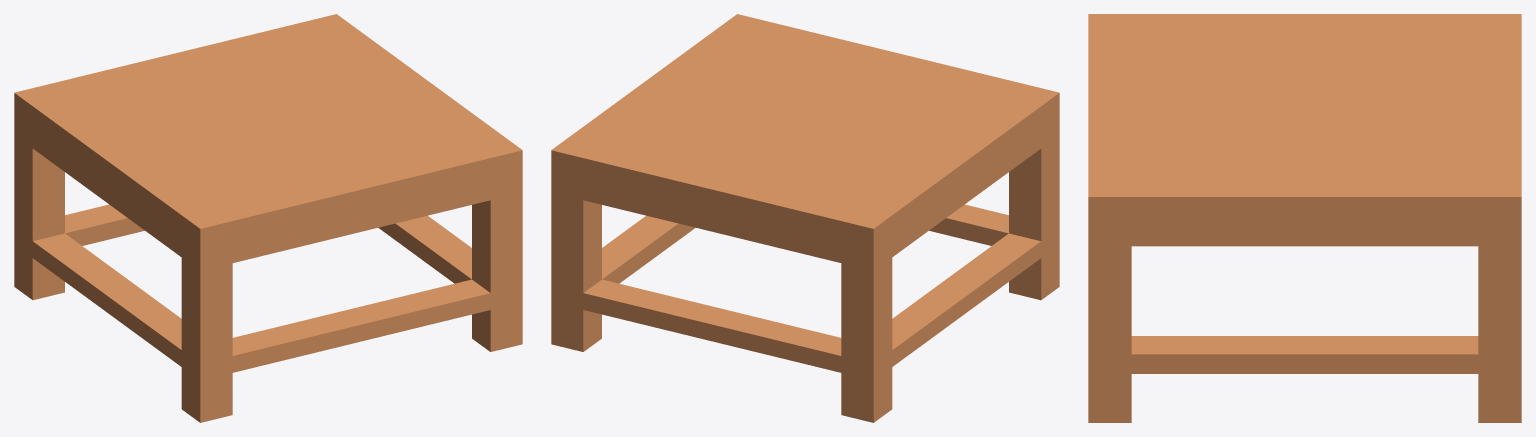
Rendered from Furniture_Table_Coffee_Square.glb.
3 renders of one model, left to right at view 1: azimuth 30°, elevation 25°; view 2: azimuth 150°, elevation 25°; view 3: azimuth 270°, elevation 25°, orthographic. The views are drawn at different scales.
Visible parts, largest first — view 1: tableCoffeeSquare; view 2: tableCoffeeSquare; view 3: tableCoffeeSquare.
Part boxes in pixels (<box>): tableCoffeeSquare: <box>14,14,522,422</box>; tableCoffeeSquare: <box>551,14,1059,422</box>; tableCoffeeSquare: <box>1088,14,1521,422</box>.
Size of the model in its own units: 0.4 by 0.23 by 0.4.
